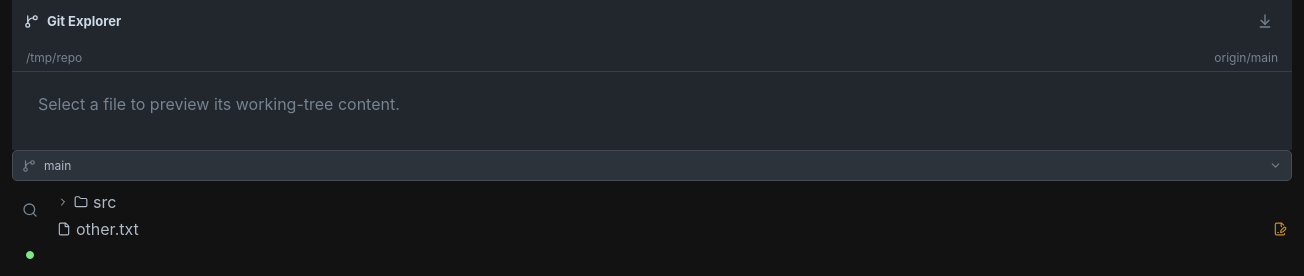
browses file versions, ignores a late preview, and returns to the working tree
The image size is (1304, 276).
Later steps or results of the test are not shown.
Click the list item titled "other.txt": (107,229) [52,216,1292,242]
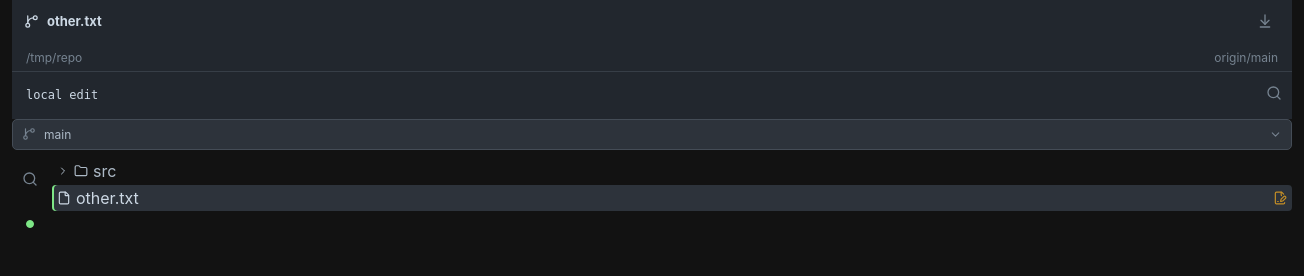
Result: the text "local edit" is shown at [12,72,1256,119]
